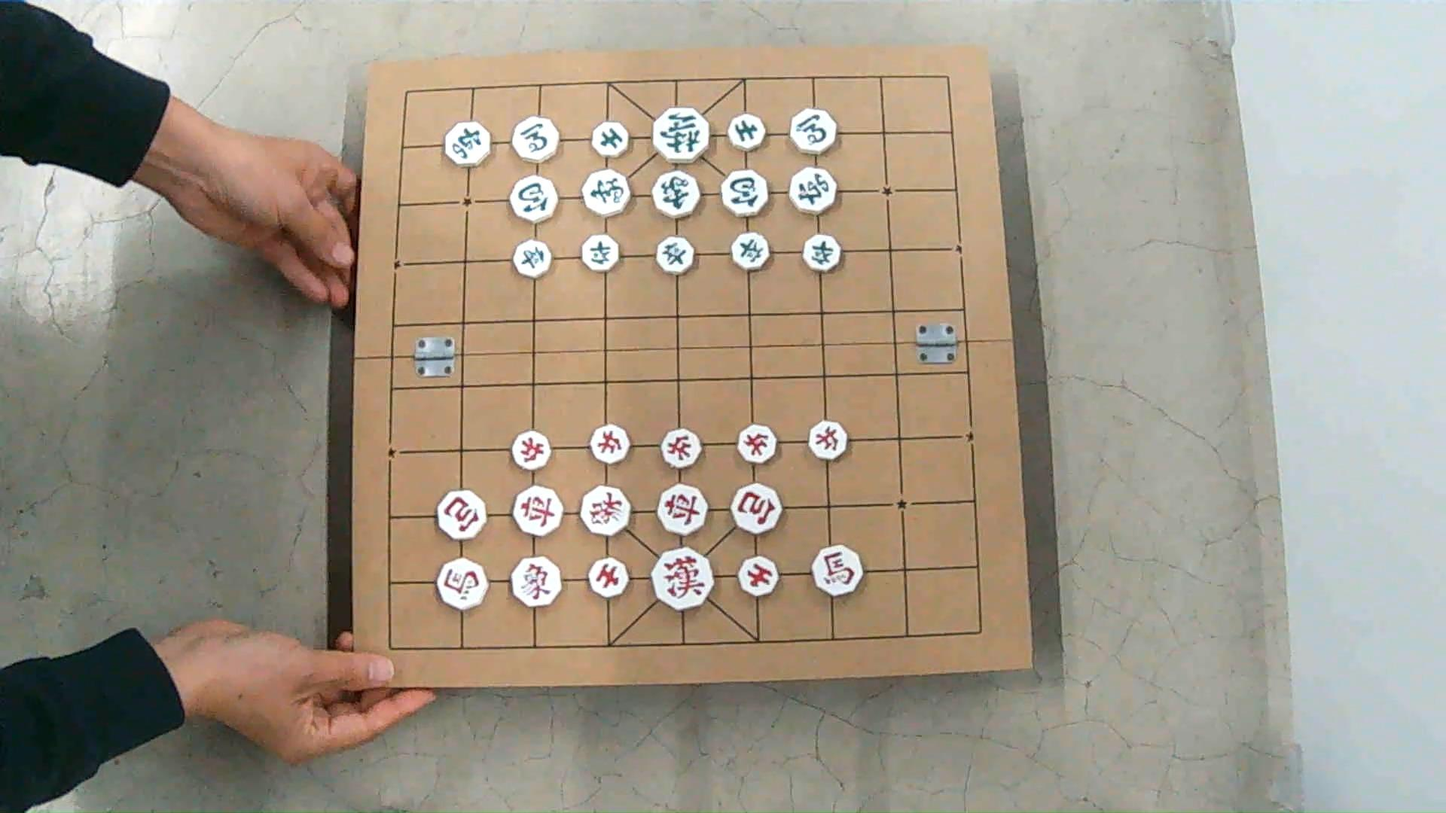cha_green: (790, 167, 840, 214), (445, 121, 492, 166)
cha_red: (657, 484, 708, 534), (513, 486, 563, 536)
jol_green: (804, 233, 842, 272), (656, 236, 694, 274), (581, 234, 619, 272), (513, 240, 551, 277), (732, 233, 770, 270)
jol_red: (590, 424, 630, 464), (737, 424, 776, 464), (809, 421, 849, 460), (661, 429, 700, 469), (511, 431, 551, 470)
ma_green: (789, 108, 839, 154), (512, 117, 560, 162)
ma_red: (812, 545, 862, 595), (438, 559, 487, 609)
po_green: (720, 169, 770, 217), (510, 176, 557, 222)
po_red: (731, 483, 782, 533), (437, 490, 487, 539)
sa_green: (728, 114, 767, 151), (591, 121, 630, 157)
sa_red: (738, 556, 778, 596), (589, 557, 628, 598)
sang_green: (651, 170, 701, 218), (582, 169, 631, 217)
sang_red: (511, 557, 562, 607), (581, 486, 630, 535)
wang_green: (652, 107, 711, 163)
wang_red: (651, 547, 714, 609)
